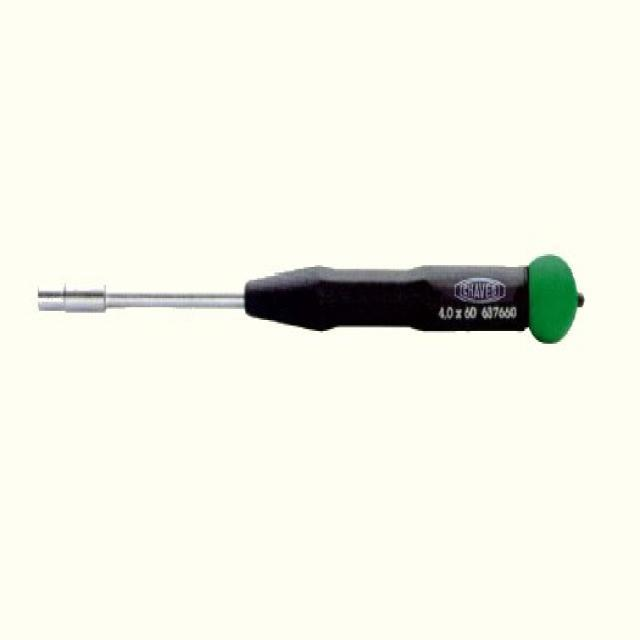screwdriver: (25, 225, 598, 366)
